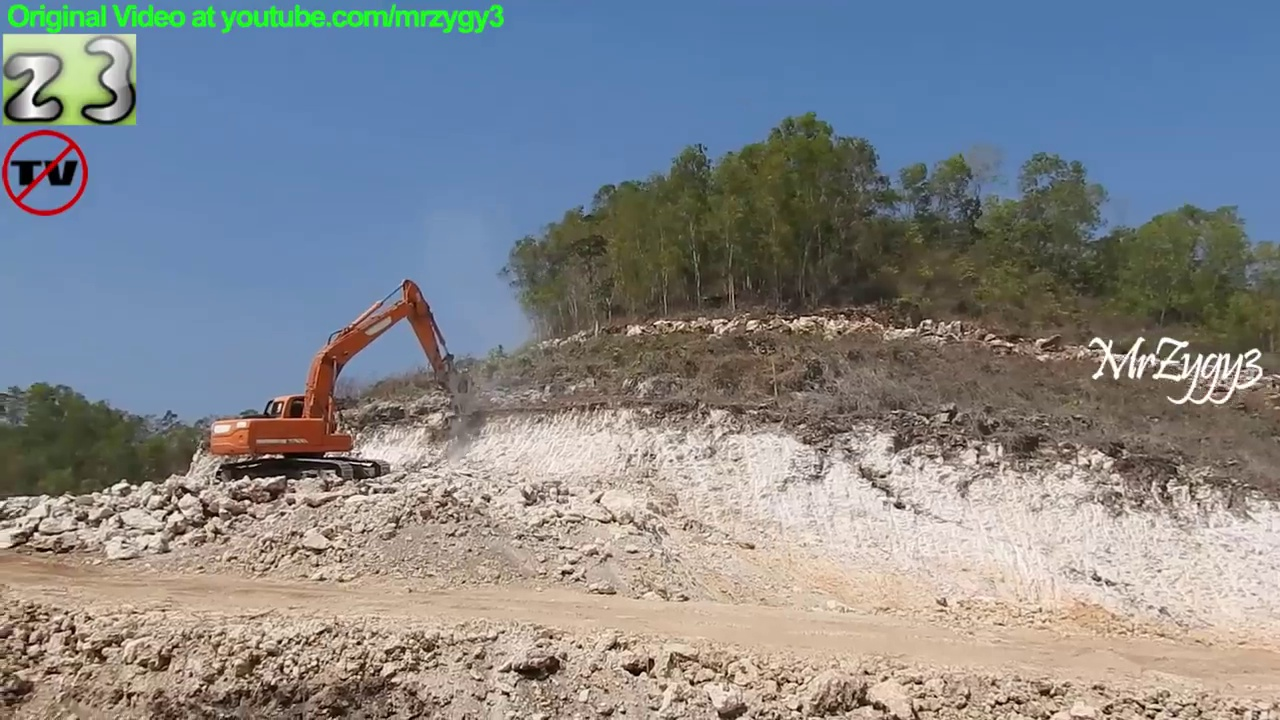excavator breaker: (203, 276, 478, 492)
